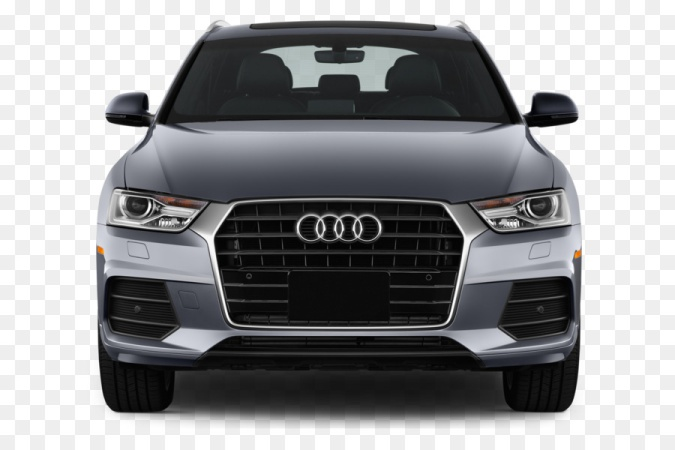audi: (289, 211, 384, 248)
